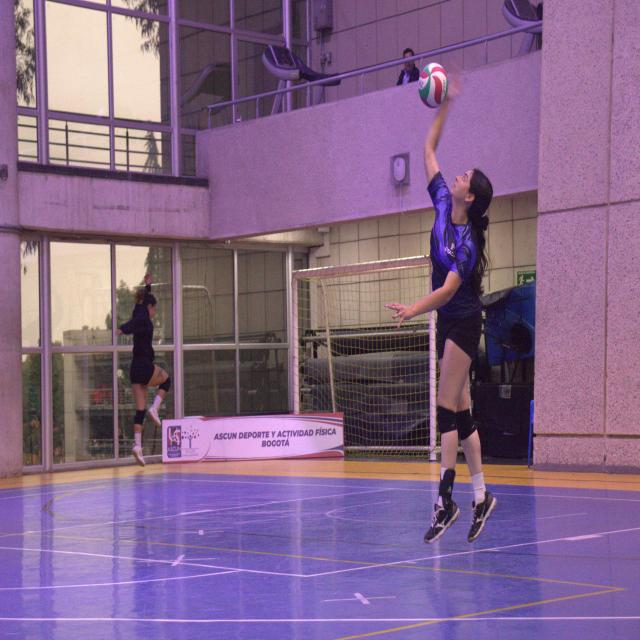volleyball: (419, 62, 446, 110)
